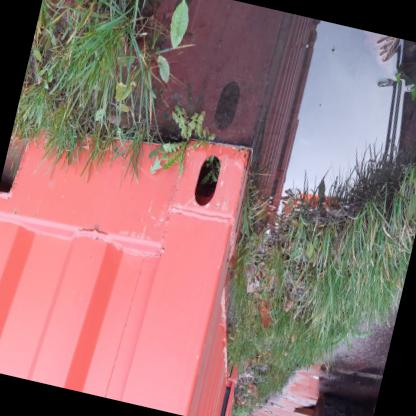CornerCasting: (162, 132, 266, 260)
